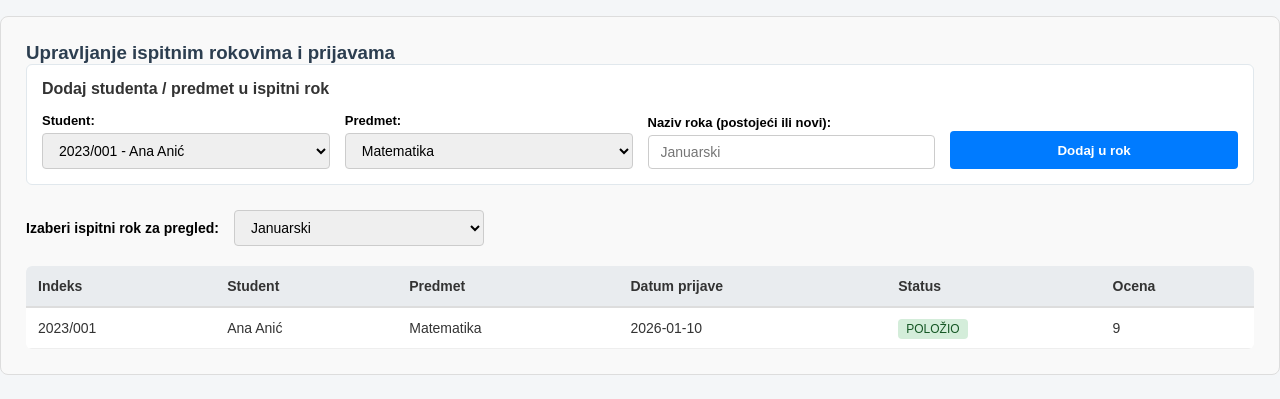
AdminIspitniRokovi - Testovi komponente › omogućava promenu izabranog ispitnog roka i učitava nove prijave
Expected: the text "POLOŽIO" is shown, [898,319,968,339]
Select "Februarski" in the dropdown next to "Izaberi ispitni rok za pregled:" at (359, 228), box [234,210,484,246]
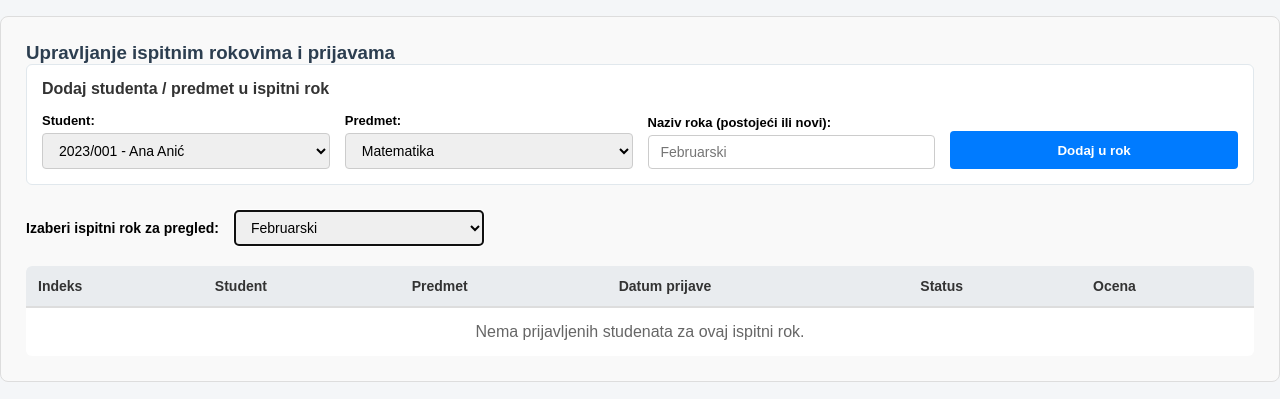
Result: the text "Nema prijavljenih studenata za ovaj ispitni rok." is shown at [26,307,1254,356]
